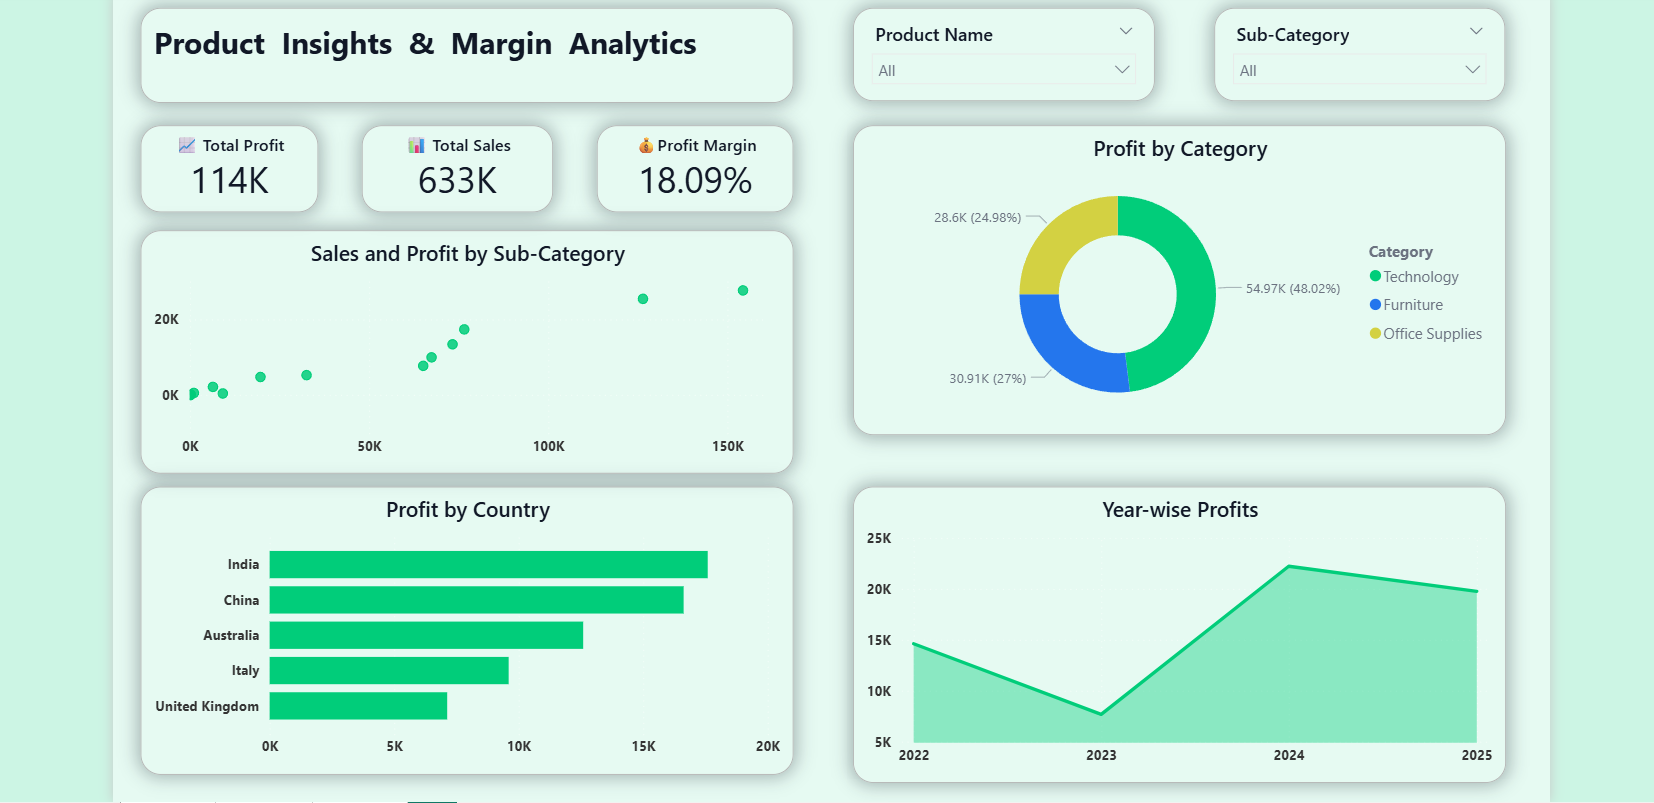

Layout of this report page (visuals, bound fields, positions):
{"tool":"powerbi","page":{"name":"Page 2","canvas":[1280,720],"ordinal":1},"visuals":[{"type":"slicer","fields":{"Values":["Dim_Product.Sub-Category"]},"box":[980.8,12.1,259.4,83.2],"z":0},{"type":"slicer","fields":{"Values":["Dim_Product.Product Name"]},"box":[658.7,12.1,269,83.2],"z":1000},{"type":"textbox","box":[24.1,12.1,581.5,84.5],"z":2000},{"type":"areaChart","title":"Year-wise Profits","fields":{"Category":["Fact_Sales.Order Date.Variation.Date Hierarchy.Year"],"Y":["Sum(Fact_Sales.Profit)"]},"box":[658.7,439.1,581.5,264.2],"z":3000},{"type":"donutChart","title":"Profit by Category","fields":{"Category":["Dim_Product.Category"],"Y":["Sum(Fact_Sales.Profit)"]},"box":[658.7,117,581.5,276.3],"z":4000},{"type":"card","title":"📈 Total Profit","fields":{"Values":["All_Measures.Total Profit"]},"box":[24.1,117,158,77.2],"z":5000},{"type":"card","title":"📊 Total Sales","fields":{"Values":["Sum(Fact_Sales.Sales)"]},"box":[222,117,170.1,77.2],"z":6000},{"type":"barChart","title":"Profit by Country","fields":{"Category":["Fact_Sales.Country"],"Y":["Sum(Fact_Sales.Profit)"]},"box":[24.1,439.1,581.5,257],"z":7000},{"type":"card","title":"💰Profit Margin","fields":{"Values":["All_Measures.Profit Margin"]},"box":[430.7,117,174.9,77.2],"z":8000},{"type":"scatterChart","title":"Sales and Profit by Sub-Category","fields":{"X":["Sum(Fact_Sales.Sales)"],"Y":["Sum(Fact_Sales.Profit)"],"Category":["Dim_Product.Sub-Category"]},"box":[24.1,209.9,581.5,217.2],"z":9000}]}

Visuals, with their boxes on the page's 1280x720 design canvas (x1, y1, x2, y2). These are canvas units, not pixel positions in the 1654x803 screenshot, which may show the page scaled, cropped or inside an application window:
slicer - Dim_Product.Sub-Category: 981:12:1240:95
slicer - Dim_Product.Product Name: 659:12:928:95
textbox: 24:12:606:97
"Year-wise Profits" areaChart: 659:439:1240:703
"Profit by Category" donutChart: 659:117:1240:393
"📈 Total Profit" card: 24:117:182:194
"📊 Total Sales" card: 222:117:392:194
"Profit by Country" barChart: 24:439:606:696
"💰Profit Margin" card: 431:117:606:194
"Sales and Profit by Sub-Category" scatterChart: 24:210:606:427
